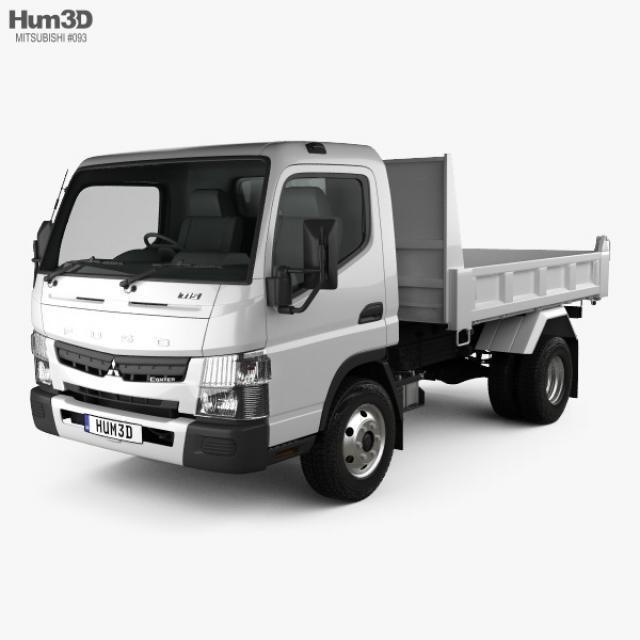Truck: (32, 140, 609, 502)
